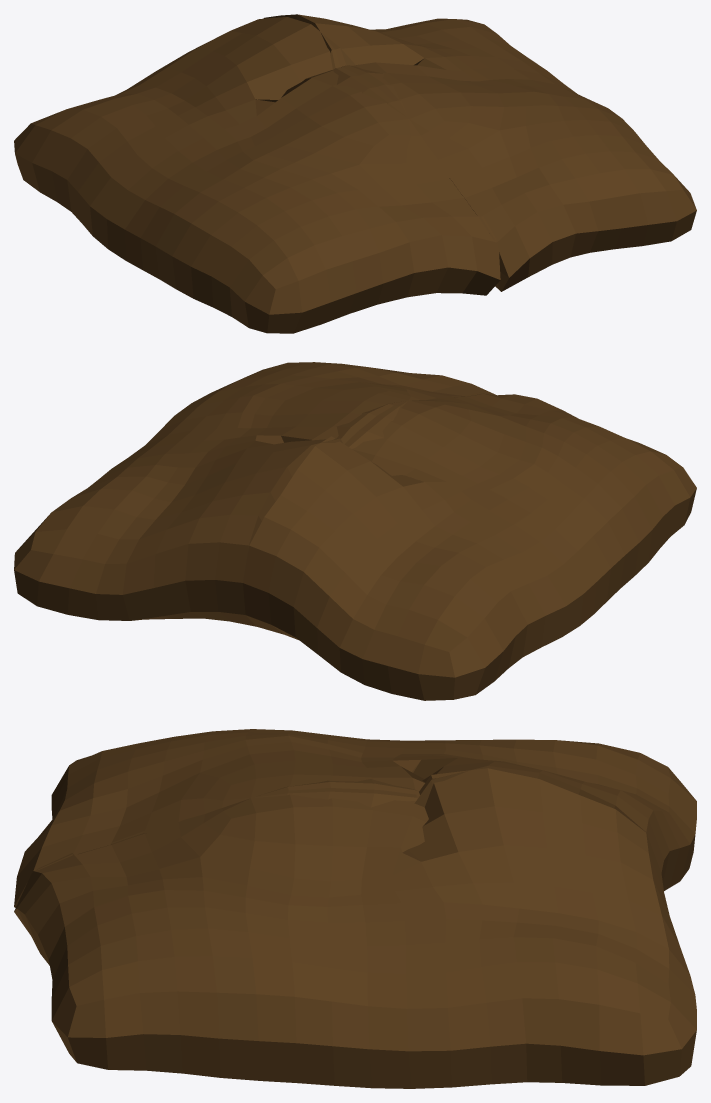
The model's file is Ground_Tile_Three.fbx.
The picture shows the model from 3 angles, top to bottom: view 1: azimuth 30°, elevation 25°; view 2: azimuth 150°, elevation 25°; view 3: azimuth 270°, elevation 25°; orthographic projection. The views are drawn at different scales.
Visible parts, largest first — view 1: Cube.001; view 2: Cube.001; view 3: Cube.001.
Boxes of the visible parts, x1,y1,x2,y2 form: Cube.001: [14, 14, 696, 333]; Cube.001: [14, 362, 696, 700]; Cube.001: [14, 729, 696, 1088].
Size of the model in its own units: 2979 by 1036 by 2993.
